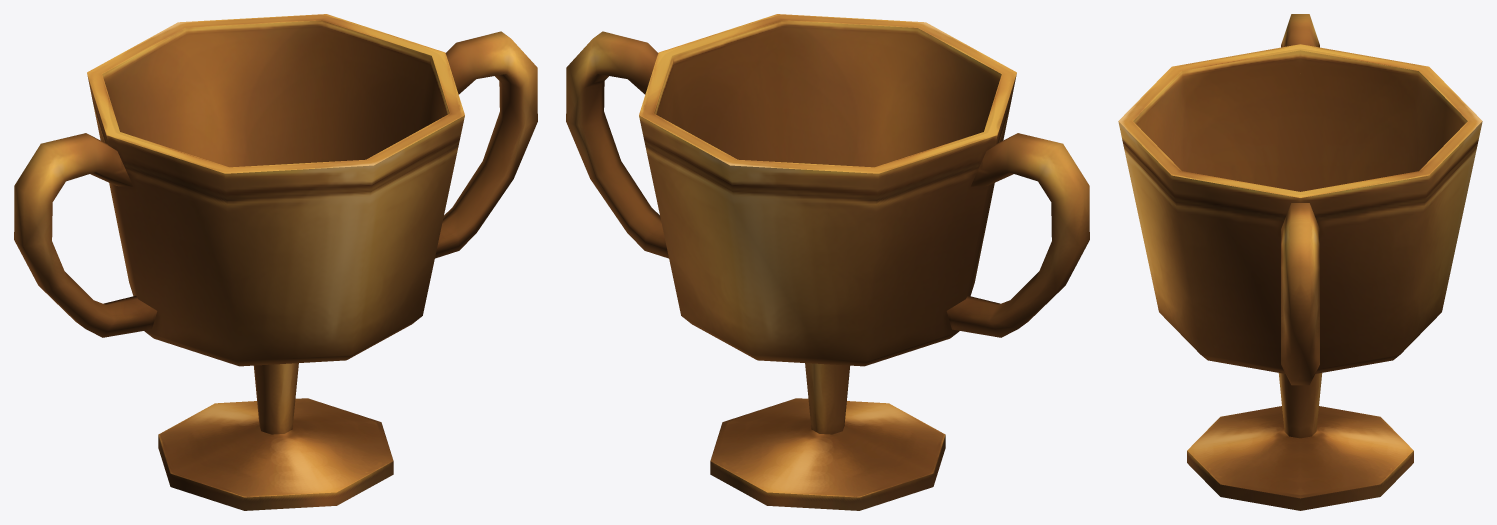
Rendered from 62_trophy.FBX.
3 views of the same model, side by side, from view 1: azimuth 30°, elevation 25°; view 2: azimuth 150°, elevation 25°; view 3: azimuth 270°, elevation 25° (orthographic). The views are drawn at different scales.
Parts seen in each view (by area): view 1: Cylinder007; view 2: Cylinder007; view 3: Cylinder007.
Part boxes in pixels (x1,y1,x2,y2): Cylinder007: (14, 14, 537, 510); Cylinder007: (566, 14, 1089, 510); Cylinder007: (1118, 14, 1482, 510).
Bounding box in the file's own units: 60.56 × 41.67 × 39.95.
